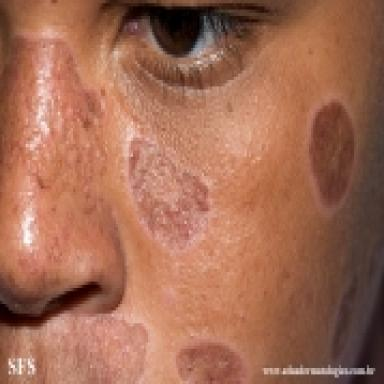Lupus-Erythematosus-Chronicus-Discoides: (0, 28, 104, 206), (121, 120, 211, 255), (307, 94, 357, 213), (86, 312, 157, 383), (176, 338, 251, 383), (328, 271, 361, 358)
